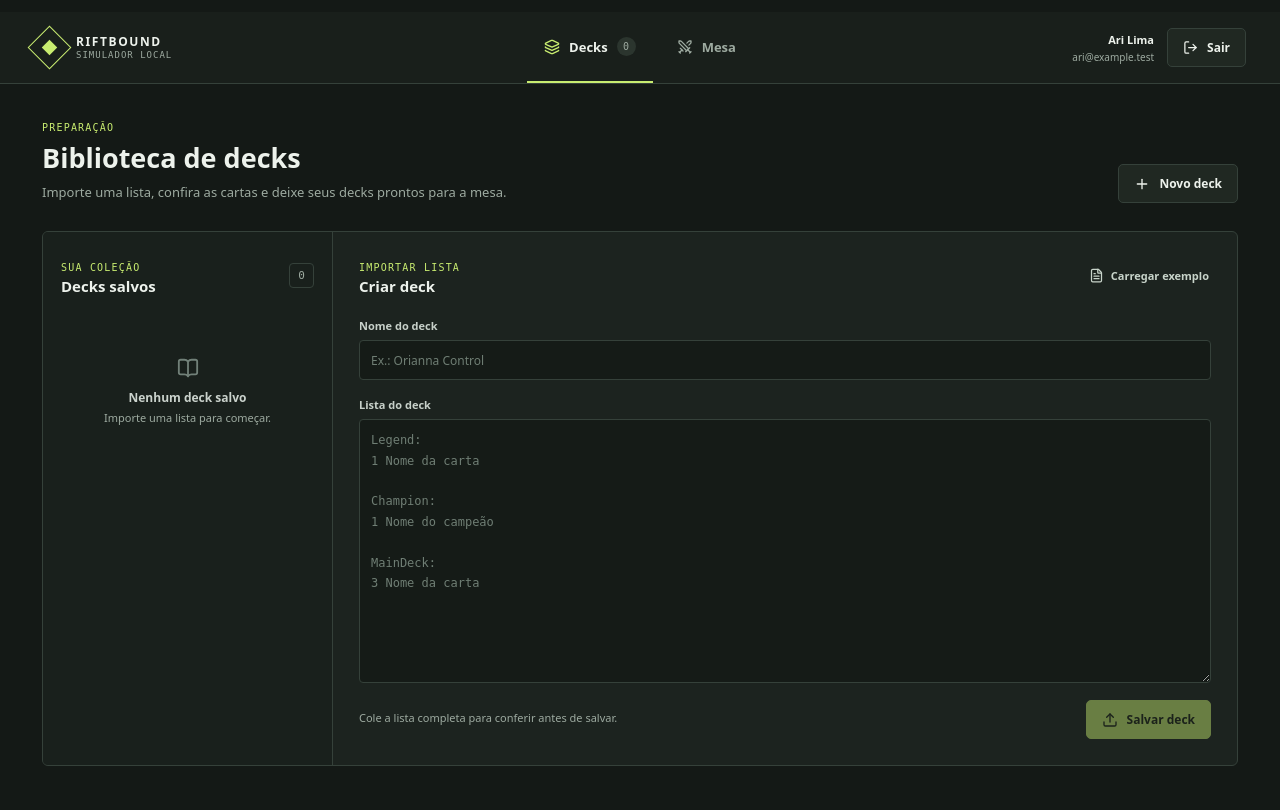
it: authenticated simulator app › keeps imported text visible after a save error
The width and height of the screenshot is (1280, 810).
What coordinates should you click on to do the following:
click the button "Carregar exemplo"
I would click on:
 (1149, 275)
Its box is [1087,261,1211,290].
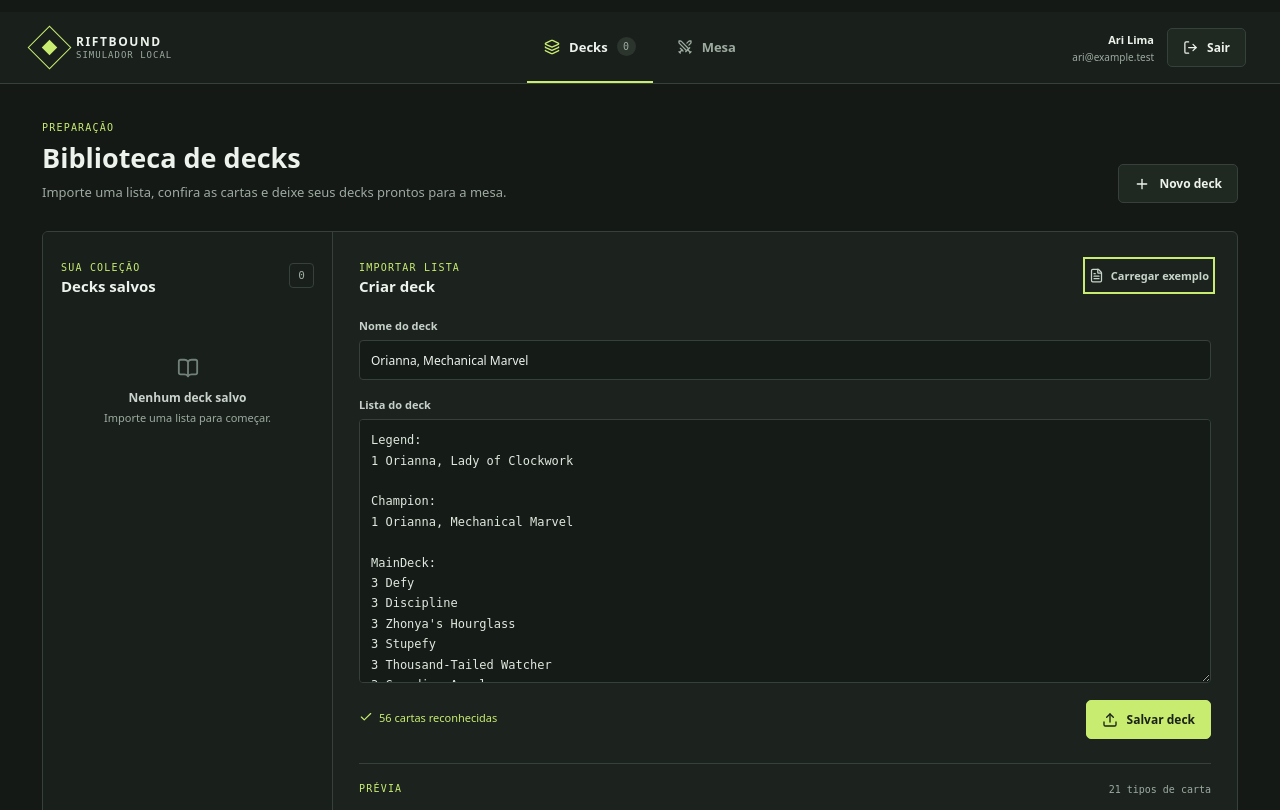
What coordinates should you click on to do the following:
click the button "Salvar deck"
I would click on:
 (1148, 720)
Its box is [1086,700,1211,739].
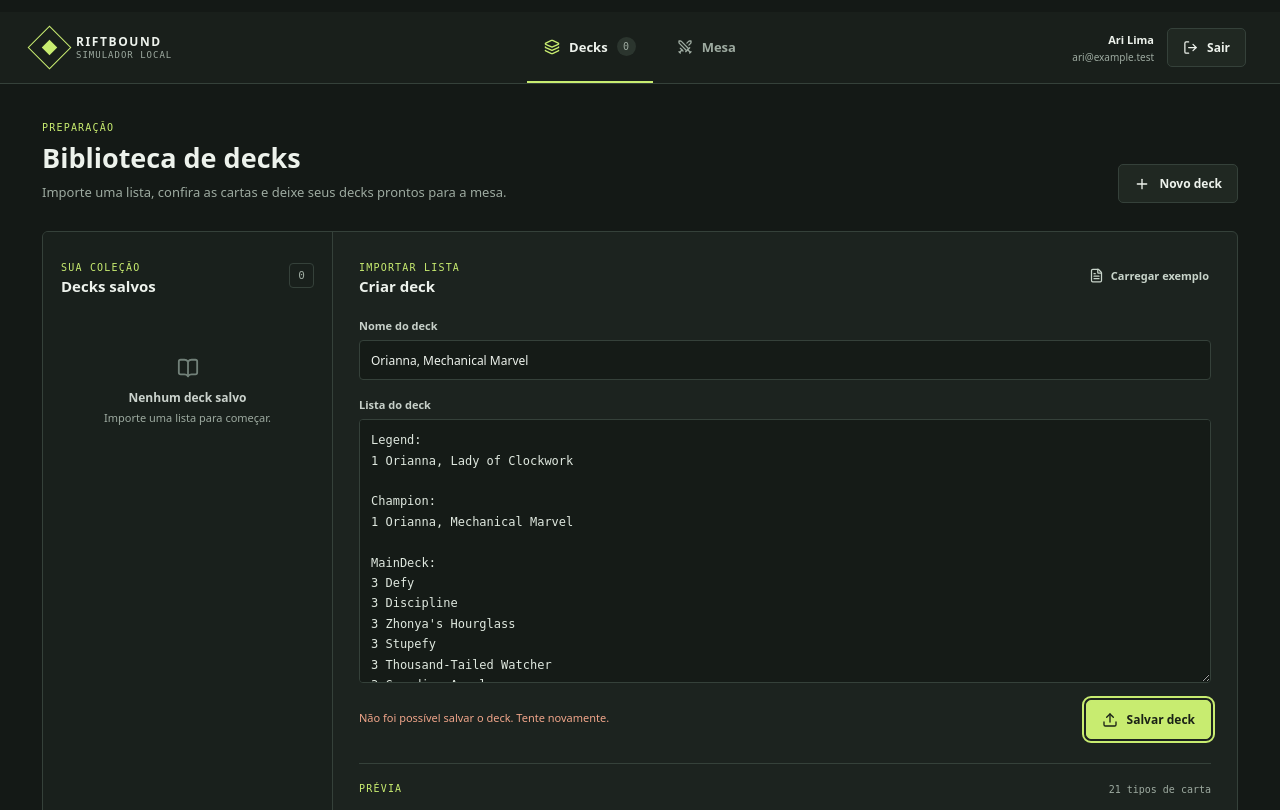
Now the text "Não foi possível salvar o deck. Tente novamente." is shown, box [359,710,609,725]
